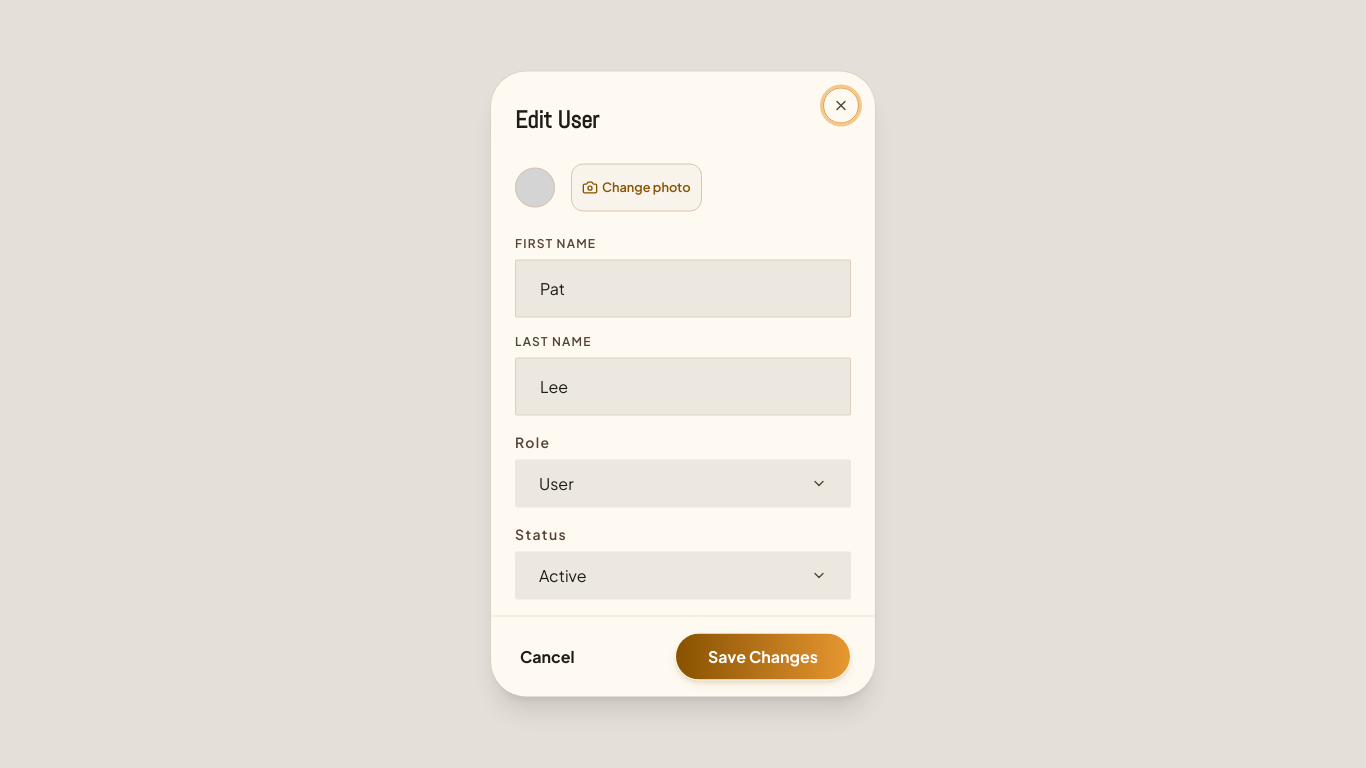
Test: EditUserForm › shows an API firstName error under First name
Step 1. Click the button "Save Changes" → (763, 656), box [675,632,851,680]
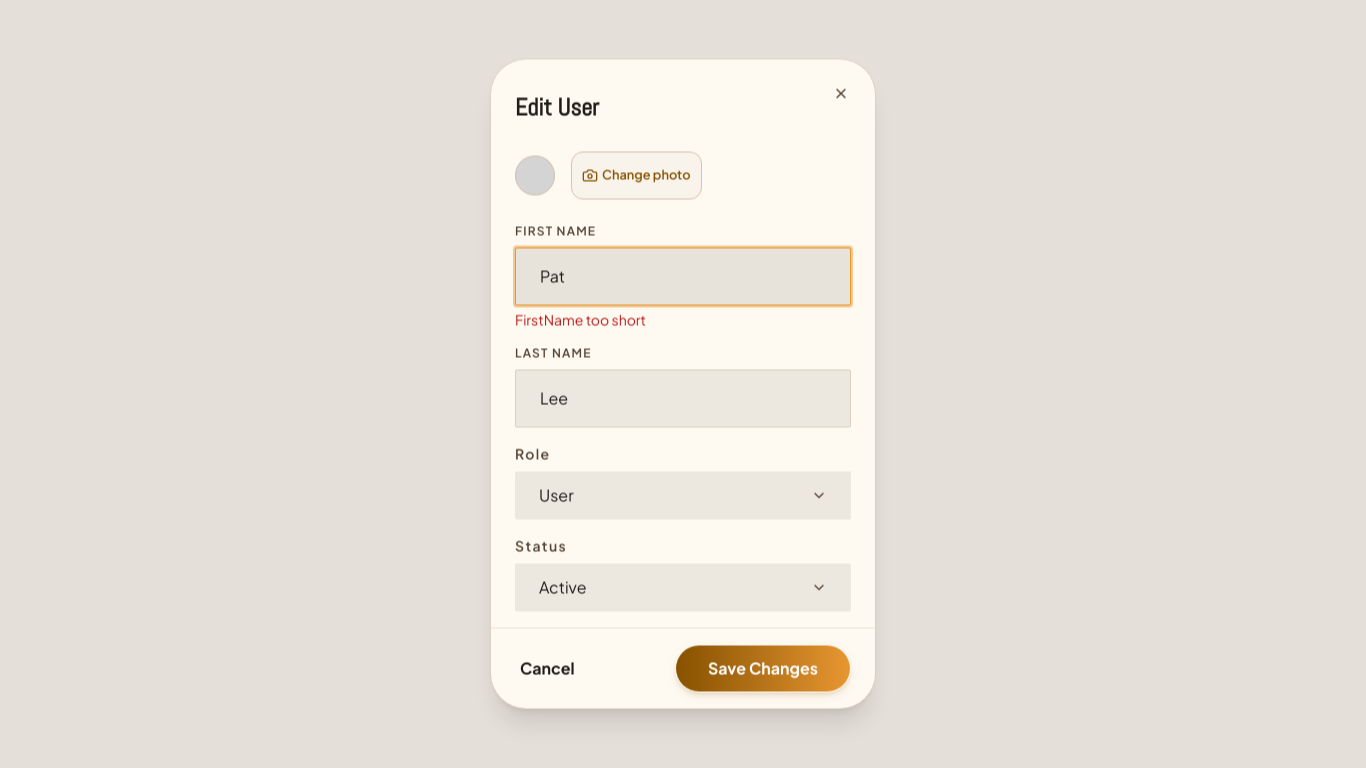
Result: the text "FirstName too short" is shown once at [515,310,646,328]
